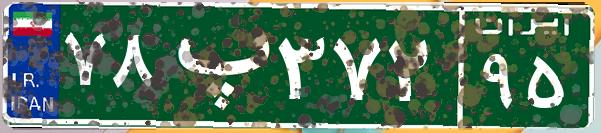2: (385, 28, 445, 110)
3: (273, 28, 330, 110)
5: (525, 38, 570, 115)
7: (330, 28, 385, 110), (57, 26, 110, 107)
8: (110, 28, 158, 105)
9: (475, 38, 525, 113)
پ: (158, 15, 273, 115)
